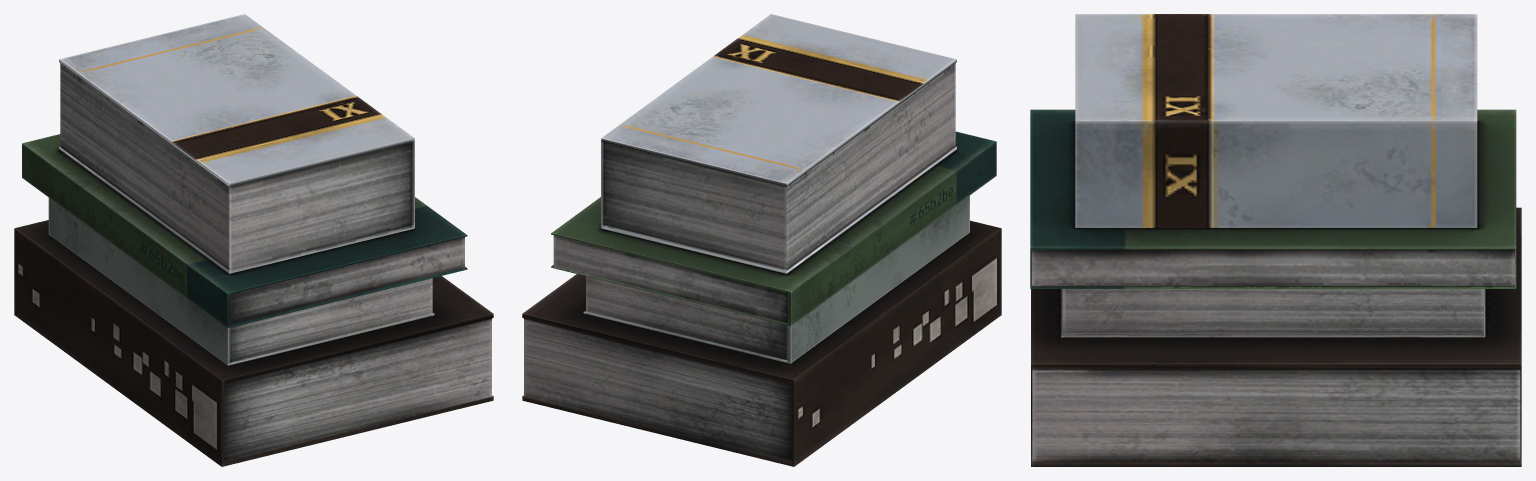
File: book_pile02.dae
3 renders of one model, left to right at view 1: azimuth 30°, elevation 25°; view 2: azimuth 150°, elevation 25°; view 3: azimuth 270°, elevation 25°, orthographic. The views are drawn at different scales.
Parts seen in each view (by area): view 1: book_pile02_LP; view 2: book_pile02_LP; view 3: book_pile02_LP.
Part boxes in pixels (box(x1,y1,x2,y2)): book_pile02_LP: box(14, 14, 493, 466); book_pile02_LP: box(522, 14, 1001, 466); book_pile02_LP: box(1030, 14, 1521, 466).
Bounding box in the file's own units: 0.2614 × 0.2416 × 0.3461.
